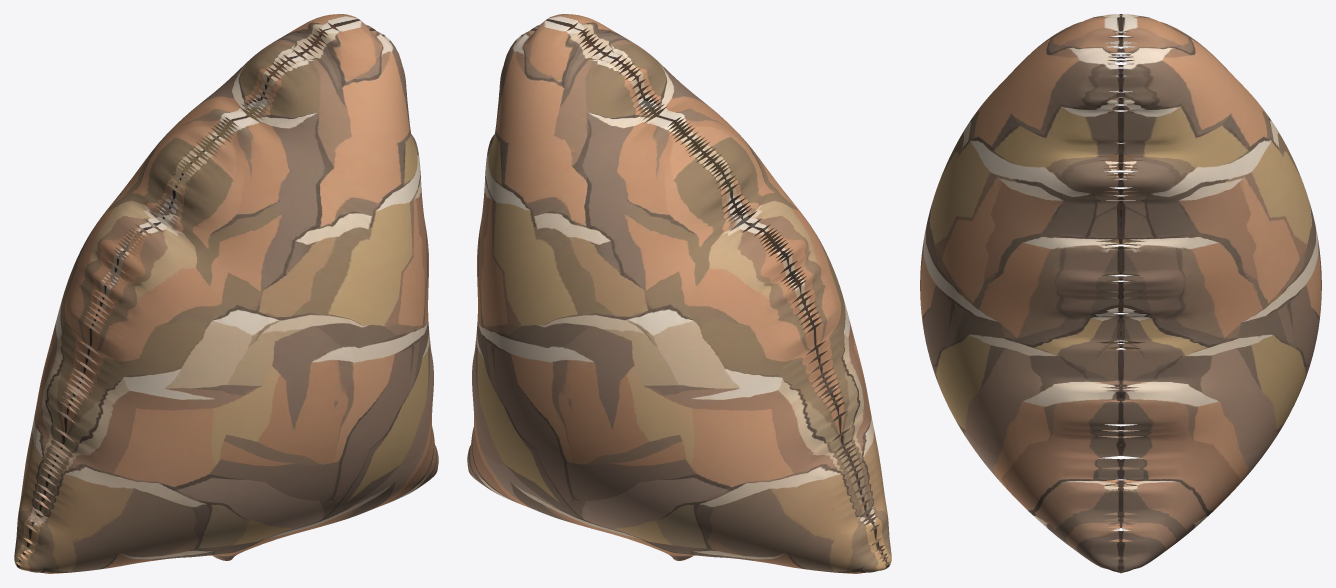
The model's file is cliff_face.glb.
3 views of the same model, side by side, from view 1: azimuth 30°, elevation 25°; view 2: azimuth 150°, elevation 25°; view 3: azimuth 270°, elevation 25° (orthographic). The views are drawn at different scales.
Visible parts, largest first — view 1: cliff_face; view 2: cliff_face; view 3: cliff_face.
Boxes of the visible parts, x1,y1,x2,y2 form: cliff_face: [14, 14, 438, 573]; cliff_face: [467, 14, 891, 573]; cliff_face: [920, 14, 1321, 573].
Bounding box in the file's own units: 0.9875 × 1.08 × 0.7637.
Materials: 1 (1 with a texture image).
